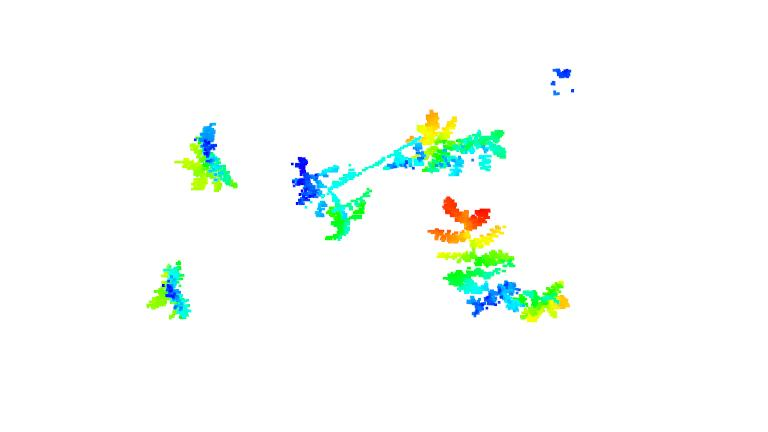chickpea: (431, 198, 568, 321), (390, 109, 509, 178), (287, 158, 376, 245), (174, 120, 238, 191), (147, 260, 192, 322)
